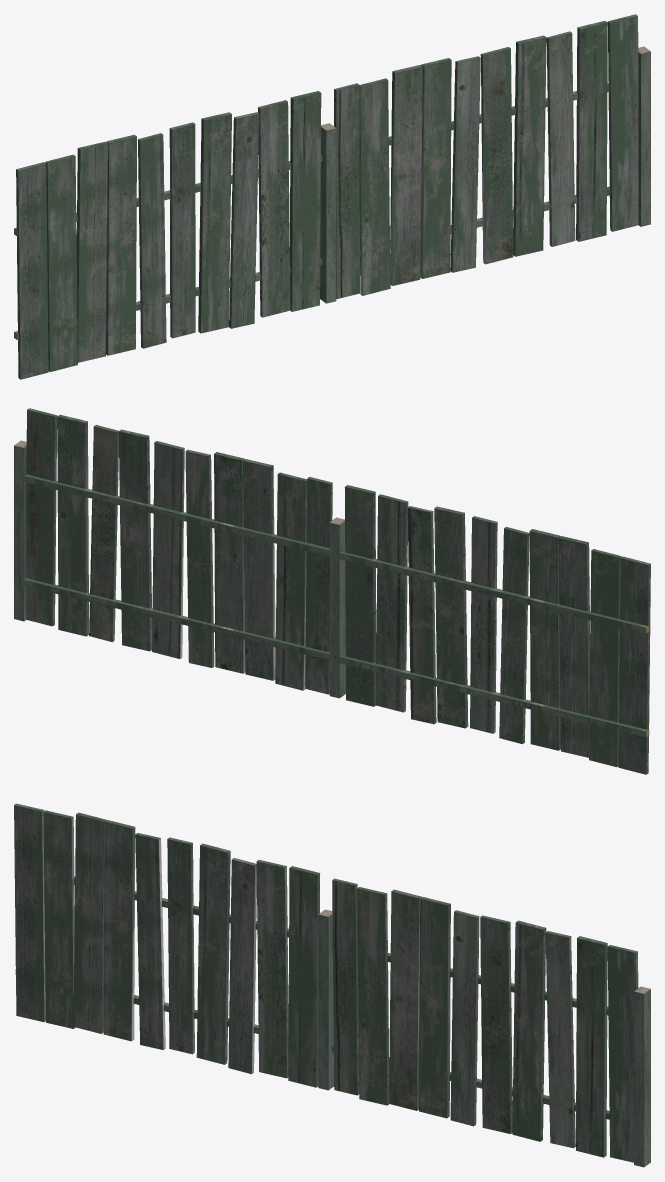
Rendered from wooden_fences__low_poly.glb.
The picture shows the model from 3 angles, top to bottom: view 1: azimuth 30°, elevation 25°; view 2: azimuth 150°, elevation 25°; view 3: azimuth 330°, elevation 25°; orthographic projection.
Visible parts, largest first — view 1: Wooden_Fence_2, Wooden_Fence_1; view 2: Wooden_Fence_2, Wooden_Fence_1; view 3: Wooden_Fence_2, Wooden_Fence_1.
Boxes of the visible parts, x1=… form: Wooden_Fence_2: x1=14, y1=91, x2=336, y2=379; Wooden_Fence_1: x1=334, y1=14, x2=650, y2=298; Wooden_Fence_2: x1=329, y1=485, x2=650, y2=774; Wooden_Fence_1: x1=14, y1=408, x2=332, y2=694; Wooden_Fence_2: x1=14, y1=803, x2=333, y2=1090; Wooden_Fence_1: x1=332, y1=878, x2=650, y2=1167.
Bounding box in the file's own units: 5.86 × 1.93 × 0.1113.
Materials: 2 (2 with a texture image).
